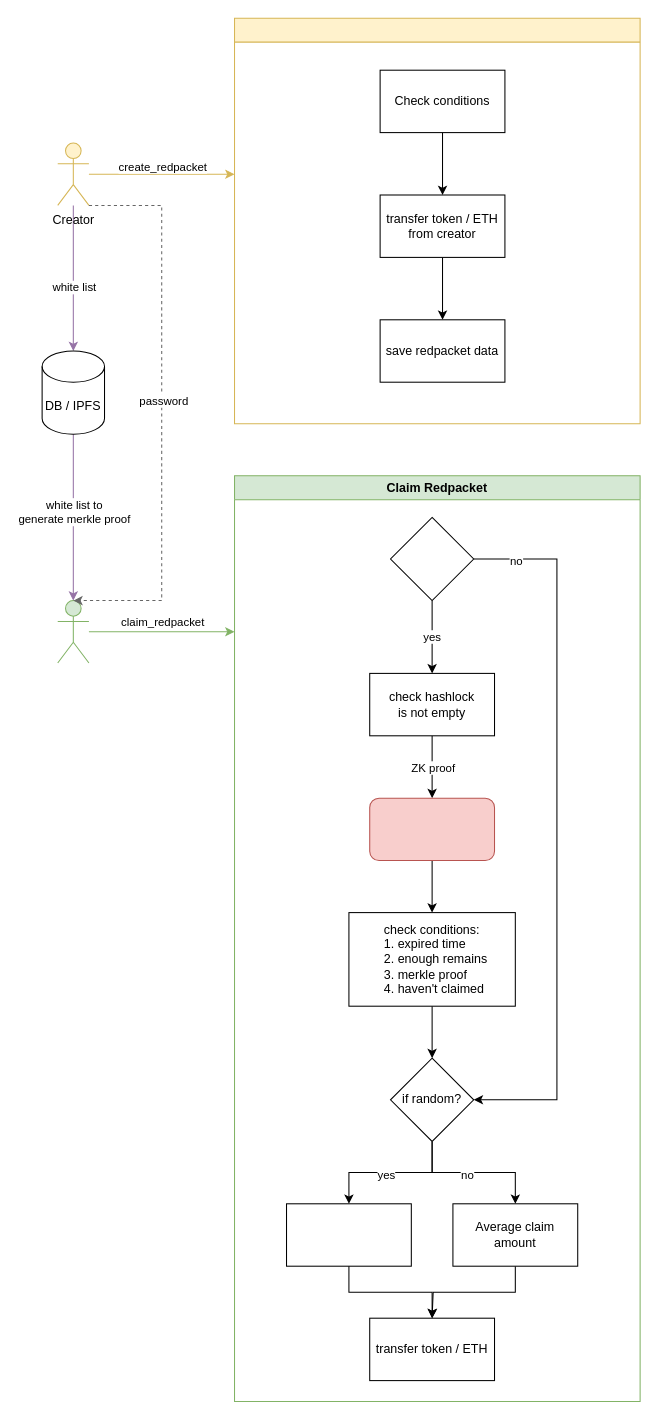
Some shapes in this 658 by 1420 pixel diagram are drawn without their labels. The shapes that lost their labels are listed below. From the top down, each one's box as (x1, y1, x2, y2) in pixels, then its label:
(233, 17, 640, 424): Create Redpacket
(389, 516, 474, 601): use password?
(57, 600, 89, 663): Claimer
(369, 797, 495, 861): Groth16Verifier
(285, 1203, 411, 1266): generate random claim amount
